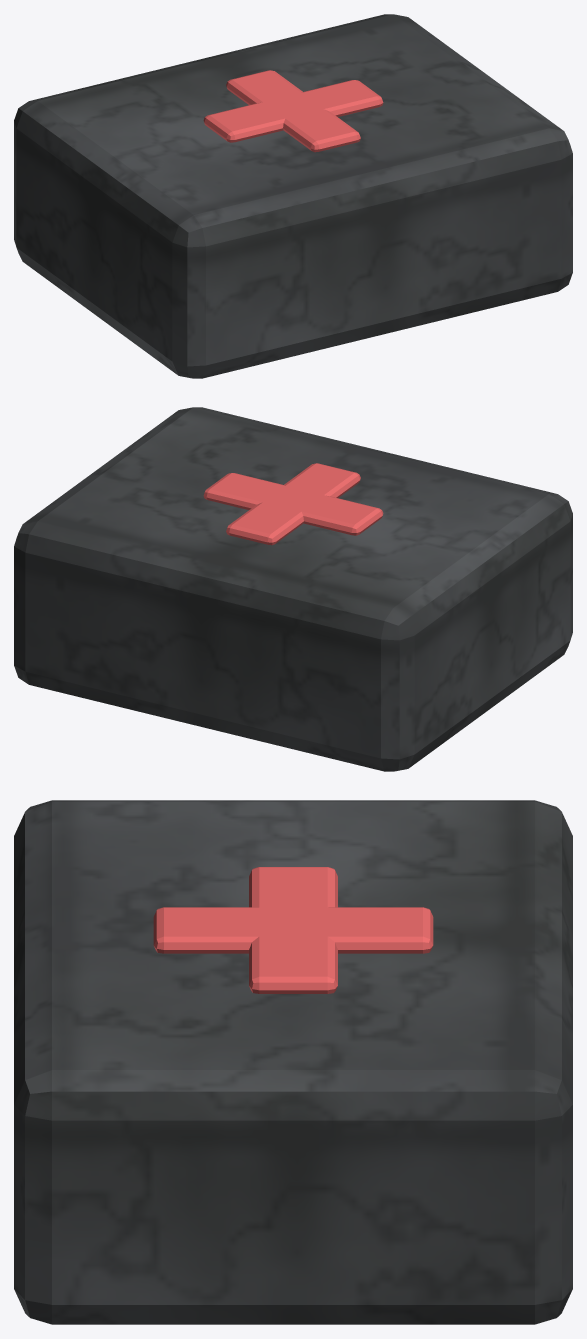
File: item_medkit.glb
3 renders of one model, top to bottom at view 1: azimuth 30°, elevation 25°; view 2: azimuth 150°, elevation 25°; view 3: azimuth 270°, elevation 25°, orthographic. The views are drawn at different scales.
Visible parts, largest first — view 1: CaseBody, CrossH, CrossV; view 2: CaseBody, CrossH, CrossV; view 3: CaseBody, CrossV, CrossH.
Boxes of the visible parts, box(x1,y1,x2,y2) form: CaseBody: box(14, 14, 572, 378); CrossH: box(203, 80, 383, 142); CrossV: box(226, 70, 360, 152); CaseBody: box(14, 407, 572, 771); CrossH: box(203, 473, 383, 535); CrossV: box(226, 463, 360, 545); CaseBody: box(14, 800, 572, 1324); CrossV: box(153, 907, 433, 953); CrossH: box(249, 867, 337, 993).
Bounding box in the file's own units: 0.28 × 0.116 × 0.22.
Materials: 2 (1 with a texture image).
